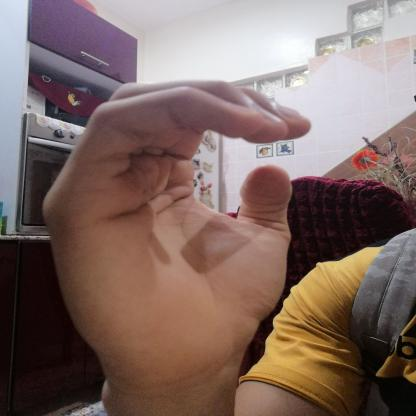JEEM: (24, 65, 332, 402)
